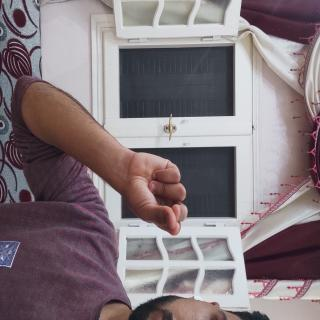QAAF: (105, 172, 179, 262)
